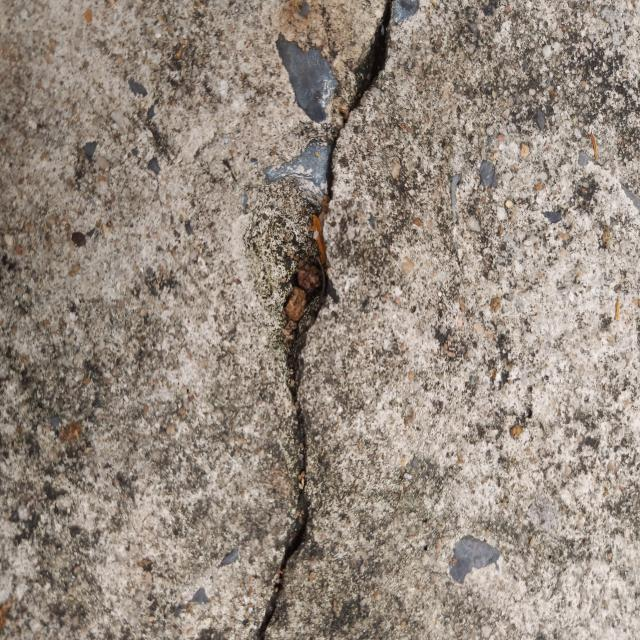vertical cracks: (258, 130, 338, 639), (340, 0, 391, 128)
